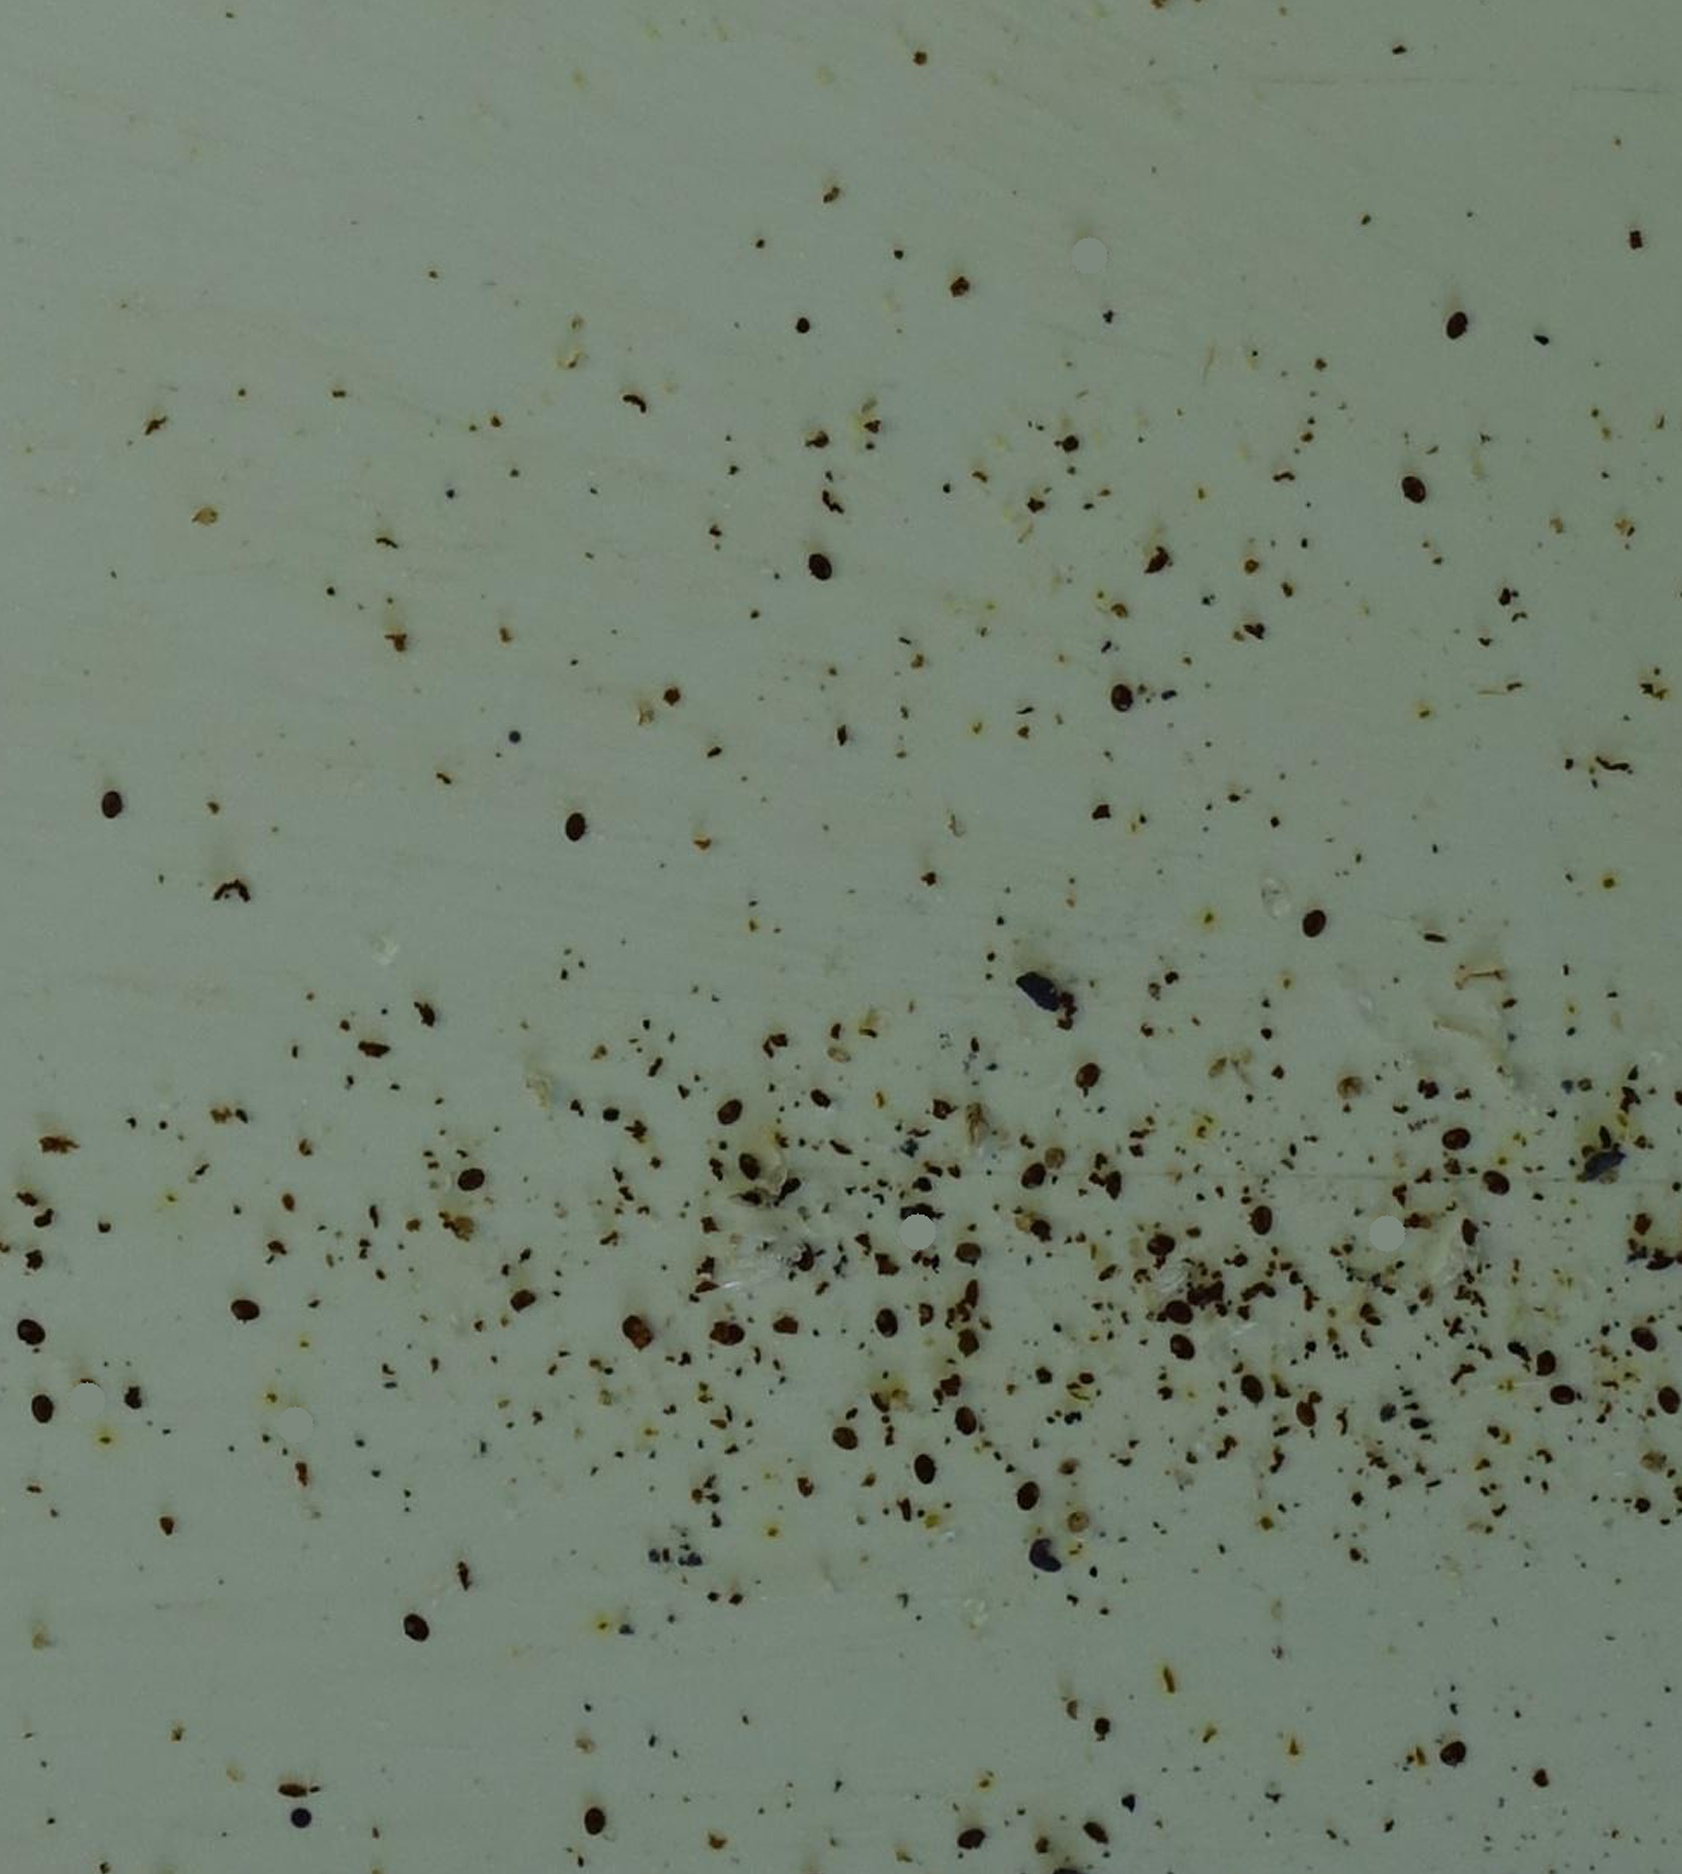Varroa: (18, 1315, 49, 1346), (1169, 1298, 1197, 1328), (1294, 1401, 1318, 1427), (792, 1242, 817, 1267), (802, 555, 826, 580), (1653, 1385, 1676, 1411), (416, 1624, 442, 1647), (960, 1827, 982, 1851), (1300, 908, 1323, 932), (1149, 1229, 1172, 1254), (583, 1807, 606, 1832), (958, 1237, 981, 1262), (955, 1406, 979, 1429), (1633, 1333, 1654, 1359), (1486, 1172, 1508, 1195), (101, 796, 123, 818), (912, 1457, 935, 1479), (563, 810, 584, 835), (1252, 1210, 1273, 1234), (718, 1315, 739, 1340), (1404, 476, 1425, 499), (873, 1309, 895, 1332), (831, 1423, 854, 1444), (1114, 687, 1135, 710), (1555, 1385, 1576, 1408), (1028, 1163, 1049, 1185), (745, 1155, 766, 1177), (1169, 1338, 1190, 1359), (1447, 1129, 1468, 1150), (1242, 1375, 1263, 1397), (242, 1301, 265, 1320), (32, 1401, 52, 1423), (1442, 1742, 1461, 1764), (1083, 1067, 1104, 1086), (1020, 1484, 1039, 1505), (726, 1101, 745, 1121), (403, 1613, 424, 1630), (458, 1168, 477, 1185), (1451, 315, 1469, 335)
